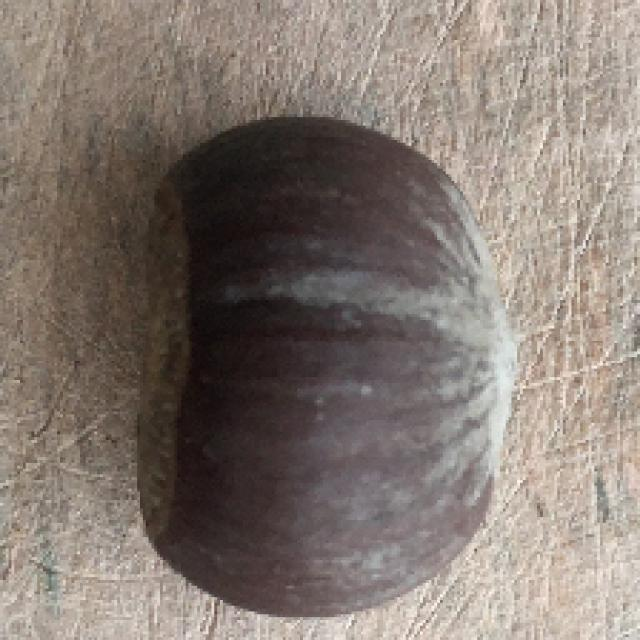damagedHazelnut: (126, 113, 520, 622)
